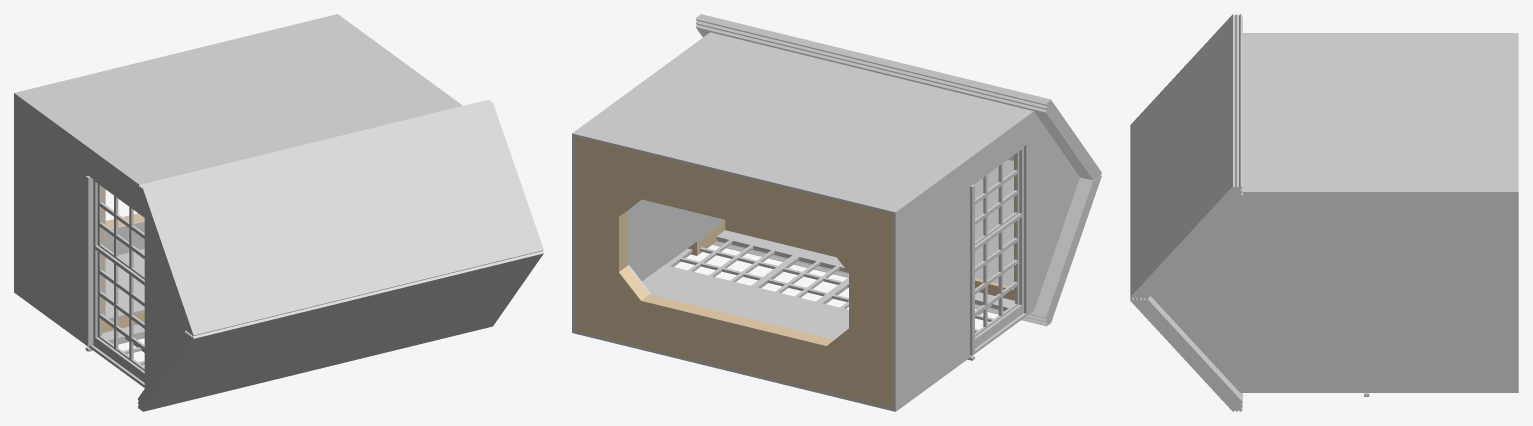
The model's file is signal-box.gltf.
3 renders of one model, left to right at view 1: azimuth 30°, elevation 25°; view 2: azimuth 150°, elevation 25°; view 3: azimuth 270°, elevation 25°, orthographic.
Visible parts, largest first — view 1: signal_box_c0_signal_box_c5_back_roof_p4_roof_layer_4_part, signal_box_c0_signal_box_c2_back_wall_p1_outside_wall_part, signal_box_c0_signal_box_c6_front_roof_p4_roof_layer_4_part, signal_box_c0_signal_box_c3_right_wall_p1_outside_wall_part, signal_box_c0_signal_box_c3_right_wall_c0_window_p2_frame_pa, signal_box_c0_signal_box_c3_right_wall_c0_window_p1_frame_pa, signal_box_c0_signal_box_c1_front_wall_p2_inside_wall_part, signal_box_c0_signal_box_c5_back_roof_p3_roof_layer_3_part, signal_box_c0_signal_box_c5_back_roof_p2_roof_layer_2_part, signal_box_c0_signal_box_c3_right_wall_c0_window_p0_sill_par, signal_box_c0_signal_box_c0_floor_p1_inside_floor_part; view 2: signal_box_c0_signal_box_c2_back_wall_p1_outside_wall_part, signal_box_c0_signal_box_c0_floor_p0_base_floor_part, signal_box_c0_signal_box_c3_right_wall_p1_outside_wall_part, signal_box_c0_signal_box_c1_front_wall_p2_inside_wall_part, signal_box_c0_signal_box_c1_front_wall_c0_window_p2_frame_pa, signal_box_c0_signal_box_c6_front_roof_p0_roof_layer_0_part, signal_box_c0_signal_box_c4_left_wall_p2_inside_wall_part, signal_box_c0_signal_box_c1_front_wall_p0_base_wall_part, signal_box_c0_signal_box_c3_right_wall_c0_window_p2_frame_pa, signal_box_c0_signal_box_c5_back_roof_p0_roof_layer_0_part, signal_box_c0_signal_box_c2_back_wall_p0_base_wall_part, signal_box_c0_signal_box_c4_left_wall_p0_base_wall_part (+12 smaller); view 3: signal_box_c0_signal_box_c4_left_wall_p1_outside_wall_part, signal_box_c0_signal_box_c2_back_wall_p1_outside_wall_part, signal_box_c0_signal_box_c5_back_roof_p4_roof_layer_4_part, signal_box_c0_signal_box_c5_back_roof_p3_roof_layer_3_part, signal_box_c0_signal_box_c5_back_roof_p2_roof_layer_2_part, signal_box_c0_signal_box_c6_front_roof_p0_roof_layer_0_part, signal_box_c0_signal_box_c5_back_roof_p1_roof_layer_1_part, signal_box_c0_signal_box_c3_right_wall_p1_outside_wall_part, signal_box_c0_signal_box_c6_front_roof_p2_roof_layer_2_part, signal_box_c0_signal_box_c6_front_roof_p3_roof_layer_3_part, signal_box_c0_signal_box_c6_front_roof_p4_roof_layer_4_part, signal_box_c0_signal_box_c6_front_roof_p1_roof_layer_1_part (+1 smaller).
Boxes of the visible parts, <box> form: signal_box_c0_signal_box_c5_back_roof_p4_roof_layer_4_part: <box>141,102,543,336</box>; signal_box_c0_signal_box_c2_back_wall_p1_outside_wall_part: <box>17,14,460,183</box>; signal_box_c0_signal_box_c6_front_roof_p4_roof_layer_4_part: <box>141,251,543,411</box>; signal_box_c0_signal_box_c3_right_wall_p1_outside_wall_part: <box>14,92,184,387</box>; signal_box_c0_signal_box_c3_right_wall_c0_window_p2_frame_pa: <box>97,184,144,370</box>; signal_box_c0_signal_box_c3_right_wall_c0_window_p1_frame_pa: <box>93,179,144,382</box>; signal_box_c0_signal_box_c1_front_wall_p2_inside_wall_part: <box>105,249,144,320</box>; signal_box_c0_signal_box_c5_back_roof_p3_roof_layer_3_part: <box>139,101,491,334</box>; signal_box_c0_signal_box_c5_back_roof_p2_roof_layer_2_part: <box>138,99,489,333</box>; signal_box_c0_signal_box_c3_right_wall_c0_window_p0_sill_par: <box>85,175,90,346</box>; signal_box_c0_signal_box_c0_floor_p1_inside_floor_part: <box>105,220,144,257</box>; signal_box_c0_signal_box_c2_back_wall_p1_outside_wall_part: <box>574,33,1030,214</box>; signal_box_c0_signal_box_c0_floor_p0_base_floor_part: <box>574,156,893,389</box>; signal_box_c0_signal_box_c3_right_wall_p1_outside_wall_part: <box>893,110,1079,411</box>; signal_box_c0_signal_box_c1_front_wall_p2_inside_wall_part: <box>642,265,848,338</box>; signal_box_c0_signal_box_c1_front_wall_c0_window_p2_frame_pa: <box>665,230,1014,332</box>; signal_box_c0_signal_box_c6_front_roof_p0_roof_layer_0_part: <box>974,159,1094,318</box>; signal_box_c0_signal_box_c4_left_wall_p2_inside_wall_part: <box>629,199,720,280</box>; signal_box_c0_signal_box_c1_front_wall_p0_base_wall_part: <box>589,220,1013,404</box>; signal_box_c0_signal_box_c3_right_wall_c0_window_p2_frame_pa: <box>975,151,1019,336</box>; signal_box_c0_signal_box_c5_back_roof_p0_roof_layer_0_part: <box>696,24,1094,180</box>; signal_box_c0_signal_box_c2_back_wall_p0_base_wall_part: <box>589,140,878,226</box>; signal_box_c0_signal_box_c4_left_wall_p0_base_wall_part: <box>574,137,725,334</box>; signal_box_c0_signal_box_c4_left_wall_p1_outside_wall_part: <box>1150,191,1518,392</box>; signal_box_c0_signal_box_c2_back_wall_p1_outside_wall_part: <box>1243,34,1518,190</box>; signal_box_c0_signal_box_c5_back_roof_p4_roof_layer_4_part: <box>1130,14,1235,298</box>; signal_box_c0_signal_box_c5_back_roof_p3_roof_layer_3_part: <box>1134,14,1238,298</box>; signal_box_c0_signal_box_c5_back_roof_p2_roof_layer_2_part: <box>1138,14,1242,298</box>; signal_box_c0_signal_box_c6_front_roof_p0_roof_layer_0_part: <box>1145,296,1242,403</box>; signal_box_c0_signal_box_c5_back_roof_p1_roof_layer_1_part: <box>1141,20,1242,298</box>; signal_box_c0_signal_box_c3_right_wall_p1_outside_wall_part: <box>1243,33,1518,34</box>; signal_box_c0_signal_box_c6_front_roof_p2_roof_layer_2_part: <box>1137,297,1242,411</box>; signal_box_c0_signal_box_c6_front_roof_p3_roof_layer_3_part: <box>1134,297,1238,411</box>; signal_box_c0_signal_box_c6_front_roof_p4_roof_layer_4_part: <box>1130,298,1234,411</box>; signal_box_c0_signal_box_c6_front_roof_p1_roof_layer_1_part: <box>1141,298,1242,407</box>.
Size of the model in its own units: 79 by 48.32 by 75.35.
